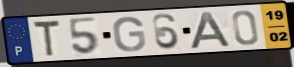0: (230, 9, 261, 47)
5: (66, 16, 102, 57)
6: (151, 13, 181, 52)
A: (188, 10, 234, 50)
G: (111, 15, 148, 53)
T: (31, 19, 62, 58)
